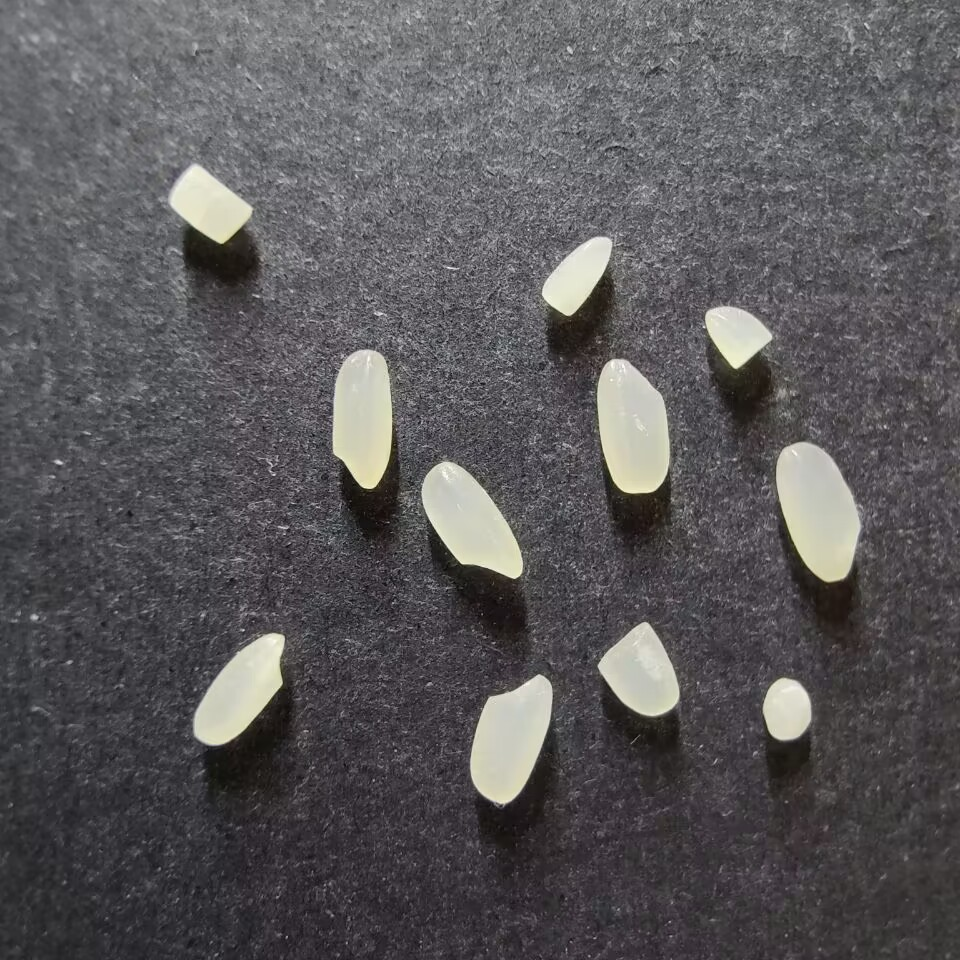broken: (597, 621, 678, 716), (168, 164, 252, 244), (540, 235, 612, 317), (704, 306, 772, 369), (762, 677, 811, 740)
rice: (420, 461, 523, 580), (775, 442, 859, 582), (469, 673, 553, 805), (192, 632, 284, 746), (595, 357, 670, 494), (331, 349, 392, 489)
